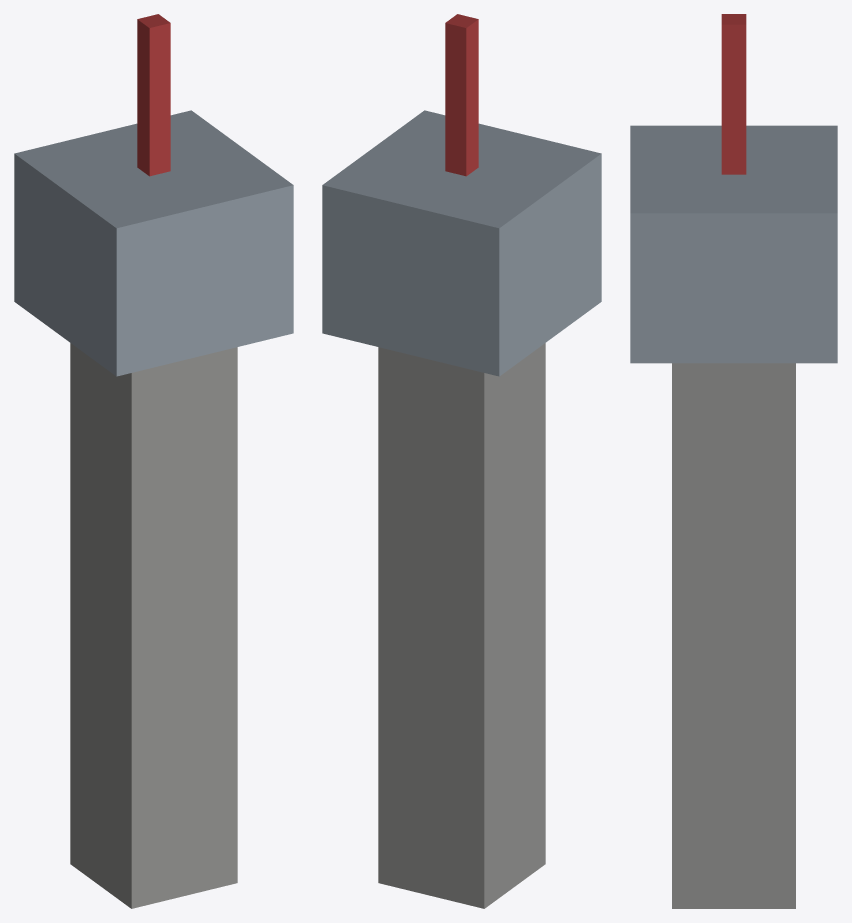
Rendered from tower.glb.
3 renders of one model, left to right at view 1: azimuth 30°, elevation 25°; view 2: azimuth 150°, elevation 25°; view 3: azimuth 270°, elevation 25°, orthographic.
Parts seen in each view (by area): view 1: tower; view 2: tower; view 3: tower.
Part boxes in pixels (x1,y1,x2,y2): tower: (14, 14, 293, 908); tower: (322, 14, 601, 908); tower: (630, 14, 837, 908).
Size of the model in its own units: 10 by 46 by 10.
